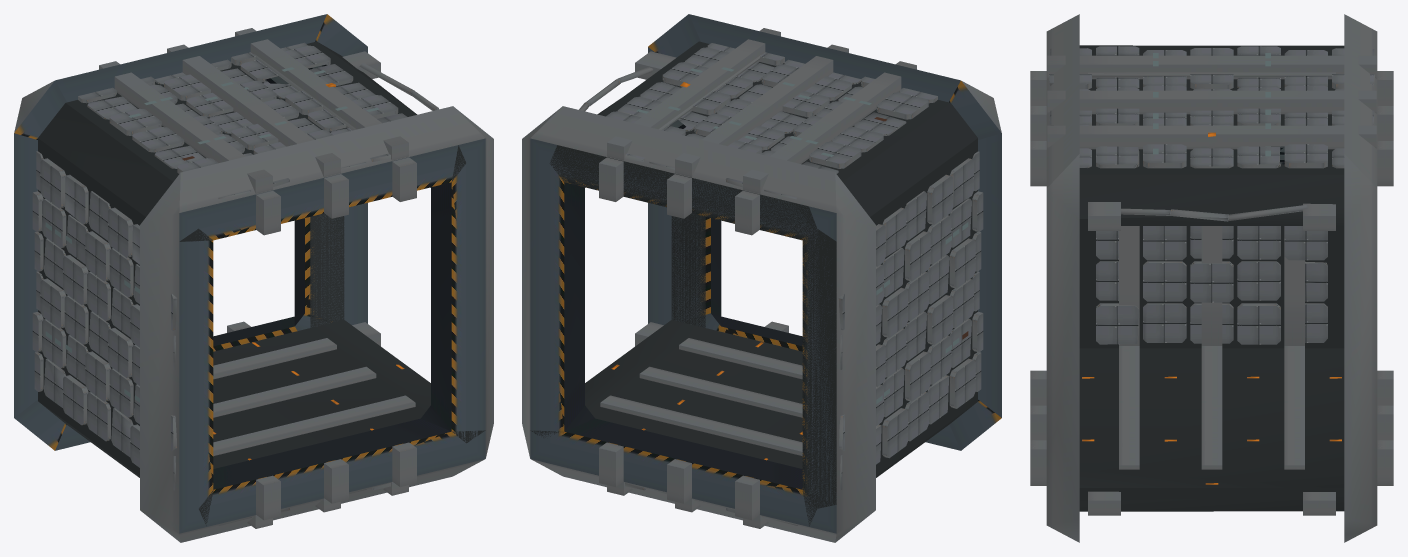
Rendered from kit_corridor_broken.glb.
The picture shows the model from 3 angles, left to right: view 1: azimuth 30°, elevation 25°; view 2: azimuth 150°, elevation 25°; view 3: azimuth 270°, elevation 25°; orthographic projection. The views are drawn at different scales.
Visible parts, largest first — view 1: lod0; view 2: lod0; view 3: lod0.
Boxes of the visible parts, x1,y1,x2,y2 form: lod0: (14,14,493,542); lod0: (522,14,1001,542); lod0: (1030,14,1393,542).
Size of what is drawn, in the model's own units: 104 by 104 by 88.
Materials: 1 (1 with a texture image).
